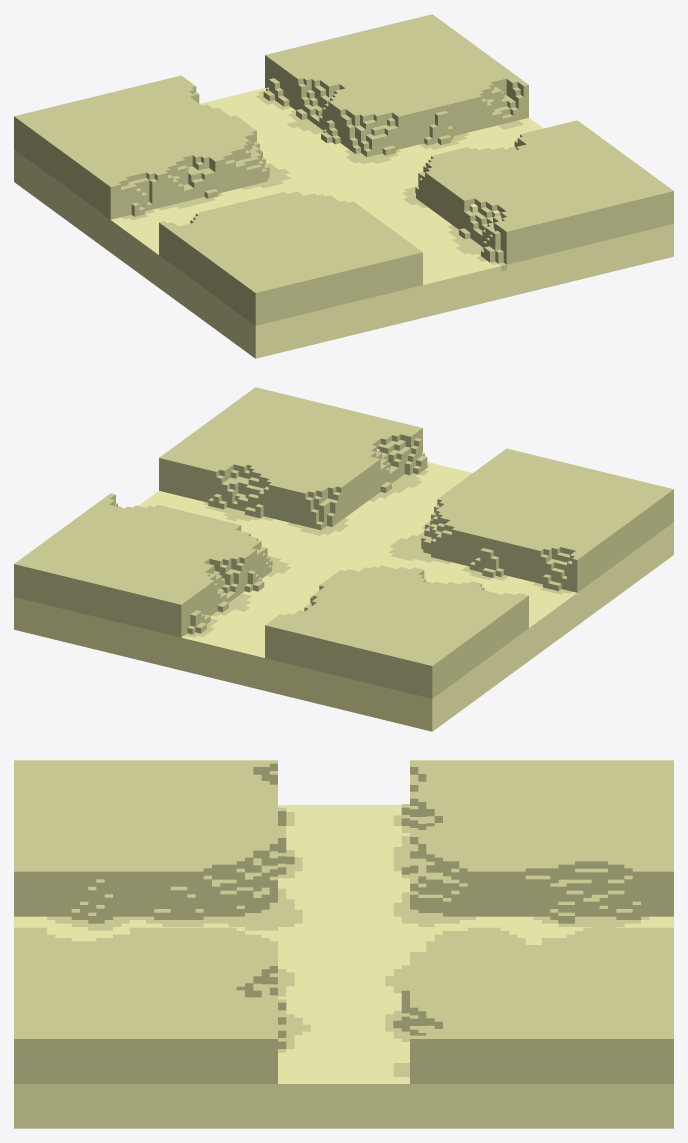
The model's file is Crossroad Path Desert Tile 1.obj.
3 views of the same model, one above another, from view 1: azimuth 30°, elevation 25°; view 2: azimuth 150°, elevation 25°; view 3: azimuth 270°, elevation 25° (orthographic). The views are drawn at different scales.
Bounding box in the file's own units: 8 × 1.2 × 8.
1 material, 1 textured.
